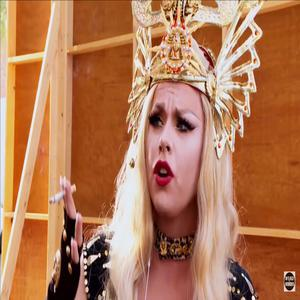cigarette: (47, 184, 77, 204)
